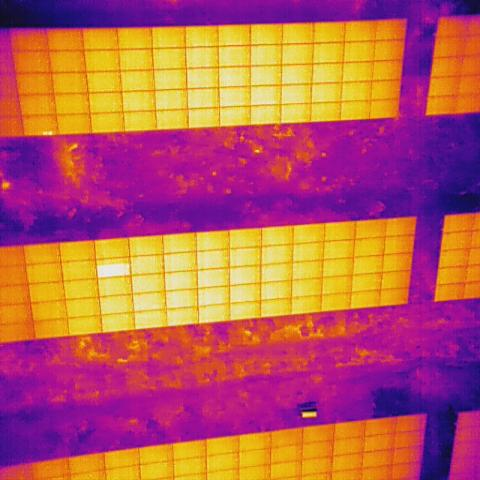fault: (98, 264, 130, 276), (41, 130, 54, 136)
